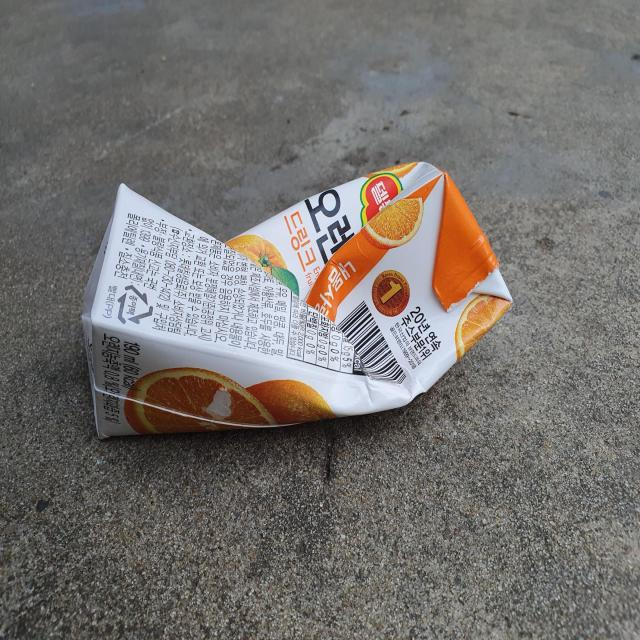paperpack: (81, 162, 513, 438)
